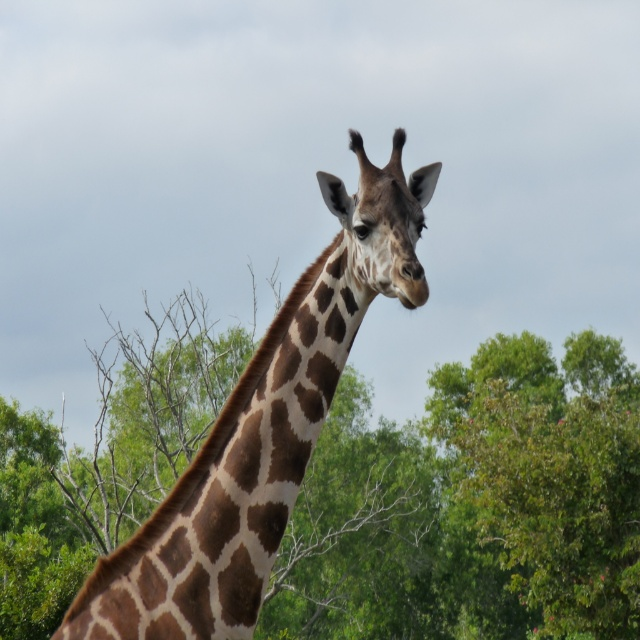Giraffe: (44, 119, 445, 638)
